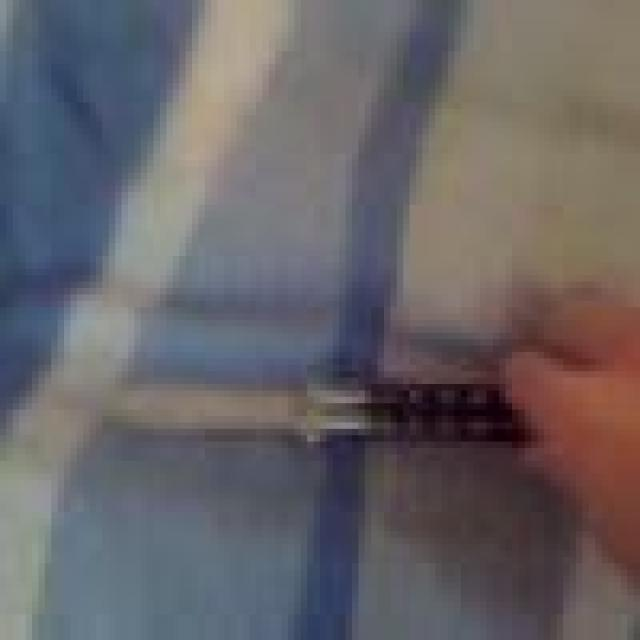knife: (102, 382, 523, 444)
